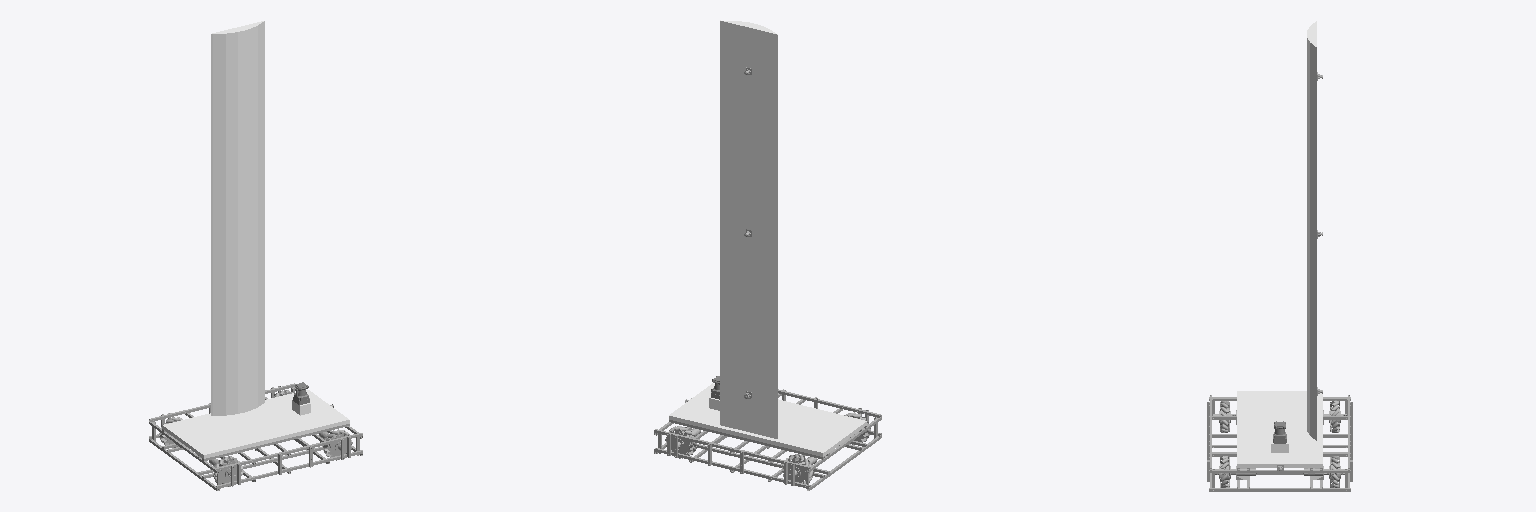
URDF robot description (orbotox):
<?xml version="1.0" encoding="utf-8"?>


<robot name="orbotox">


  <!--gazebo>
  <plugin name="skid_steer_drive_controller" filename="libgazebo_ros_skid_steer_drive.so">
    <updateRate>100.0</updateRate>
    <robotNamespace>/orbotox</robotNamespace>
    <leftFrontJoint>wheel2_joint</leftFrontJoint>
    <rightFrontJoint>wheel1_joint</rightFrontJoint>
    <leftRearJoint>wheel3_joint</leftRearJoint>
    <rightRearJoint>wheel4_joint</rightRearJoint>
    <wheelSeparation>0.65</wheelSeparation>
    <wheelDiameter>0.127</wheelDiameter>
    <robotBaseFrame>base_link</robotBaseFrame>
    <torque>20</torque>
    <topicName>cmd_vel</topicName>
    <broadcastTF>true</broadcastTF>
  </plugin>
  </gazebo-->


  <gazebo>
    <plugin name="object_controller" filename="libgazebo_ros_planar_move.so">
      <commandTopic>cmd_vel</commandTopic>
      <odometryTopic>odom</odometryTopic>
      <odometryFrame>odom</odometryFrame>
      <odometryRate>20.0</odometryRate>
      <robotBaseFrame>base_link</robotBaseFrame>
    </plugin>
  </gazebo>

  <link name="base_link">
    <inertial>
      <origin xyz="-0.063937 -0.10833 0.033362" rpy="0 0 0" />
      <mass value="0.0010628" />
      <inertia ixx="2.0186E-08" ixy="2.4126E-25" ixz="-1.13E-24" iyy="2.0186E-08" iyz="-5.7694E-25" izz="1.6792E-08" />
    </inertial>
    <visual>
      <origin xyz="0 0 0" rpy="0 0 0" />
      <geometry>
        <mesh filename="package://orbotox/meshes/base_link.STL" />
      </geometry>
      <material name="">
        <color rgba="0.75294 0.75294 0.75294 1" />
      </material>
    </visual>
    <collision>
      <origin xyz="0 0 0" rpy="0 0 0" />
      <geometry>
        <mesh filename="package://orbotox/meshes/base_link.STL" />
      </geometry>
    </collision>
  </link>


  <link name="body_link">
    <inertial>
      <origin xyz="-0.059075 -0.10835 0.096944" rpy="0 0 0" />
      <mass value="3" />
      <inertia ixx="0.021775" ixy="1.5385E-08" ixz="1.7745E-18" iyy="0.043574" iyz="1.8448E-18" izz="0.064943" />
    </inertial>
    <visual>
      <origin xyz="0 0 0" rpy="0 0 0" />
      <geometry>
        <mesh filename="package://orbotox/meshes/body_link.STL" />
      </geometry>
      <material name="">
        <color rgba="0.75294 0.75294 0.75294 1" />
      </material>
    </visual>
    <collision>
      <origin xyz="0 0 0" rpy="0 0 0" />
      <geometry>
        <mesh filename="package://orbotox/meshes/body_link.STL" />
      </geometry>
    </collision>
  </link>


  <joint name="base_body_joint" type="fixed">
    <origin xyz="0 0 0" rpy="0 0 0" />
    <parent link="base_link" />
    <child link="body_link" />
    <axis xyz="0 0 0" />
  </joint>


   <gazebo reference="body_link">
        <kp>1000.0</kp>
        <kd>1000.0</kd>
        <mu1>10.0</mu1>
        <mu2>10.0</mu2>
        <material>Gazebo/Grey</material>
    </gazebo>


  <link name="wheel1_link">
    <inertial>
      <origin xyz="-2.0561E-08 -0.052961 -1.1562E-07" rpy="0 0 0" />
      <mass value="0.1" />
      <inertia ixx="0.00030067" ixy="2.0195E-07" ixz="-3.9763E-08" iyy="0.00049283" iyz="-3.5914E-08" izz="0.00030045" />
    </inertial>
    <visual>
      <origin xyz="0 0 0" rpy="0 0 0" />
      <geometry>
        <mesh filename="package://orbotox/meshes/wheel1_link.STL" />
      </geometry>
      <material name="">
        <color rgba="0.75294 0.75294 0.75294 1" />
      </material>
    </visual>
    <collision>
      <origin xyz="0 0 0" rpy="0 0 0" />
      <geometry>
        <mesh filename="package://orbotox/meshes/wheel1_link.STL" />
      </geometry>
    </collision>
  </link>


  <joint name="wheel1_joint" type="continuous">
    <origin xyz="0.23716 -0.31048 0.090058" rpy="0 0 0" />
    <parent link="body_link" />
    <child link="wheel1_link" />
    <axis xyz="0 1 0" />
  </joint>


   <gazebo reference="wheel1_link">
        <kp>1000000.0</kp>
        <kd>0.1</kd>
        <mu1>0</mu1>
        <mu2>0</mu2>
        <material>Gazebo/Black</material>
    </gazebo>


  <link name="wheel2_link">
    <inertial>
      <origin xyz="1.4883E-08 0.05296 -7.9687E-08" rpy="0 0 0" />
      <mass value="0.1" />
      <inertia ixx="0.00030068" ixy="2.0511E-07" ixz="2.4557E-09" iyy="0.00049284" iyz="2.1839E-09" izz="0.00030045" />
    </inertial>
    <visual>
      <origin xyz="0 0 0" rpy="0 0 0" />
      <geometry>
        <mesh filename="package://orbotox/meshes/wheel2_link.STL" />
      </geometry>
      <material name="">
        <color rgba="0.75294 0.75294 0.75294 1" />
      </material>
    </visual>
    <collision>
      <origin xyz="0 0 0" rpy="0 0 0" />
      <geometry>
        <mesh filename="package://orbotox/meshes/wheel2_link.STL" />
      </geometry>
    </collision>
  </link>


  <joint name="wheel2_joint" type="continuous">
    <origin xyz="0.237163125315538 0.0938144280797989 0.0900582443330503" rpy="0 0 0" />
    <parent link="body_link" />
    <child link="wheel2_link" />
    <axis xyz="0 1 0" />
  </joint>


   <gazebo reference="wheel2_link">
        <kp>1000000.0</kp>
        <kd>0.1</kd>
        <mu1>0</mu1>
        <mu2>0</mu2>
        <material>Gazebo/Black</material>
    </gazebo>


  <link name="wheel3_link">
    <inertial>
      <origin xyz="1.2499E-09 0.05296 -1.1743E-07" rpy="0 0 0" />
      <mass value="0.1" />
      <inertia ixx="0.00030068" ixy="2.0511E-07" ixz="2.4557E-09" iyy="0.00049283" iyz="2.1839E-09" izz="0.00030044" />
    </inertial>
    <visual>
      <origin xyz="0 0 0" rpy="0 0 0" />
      <geometry>
        <mesh filename="package://orbotox/meshes/wheel3_link.STL" />
      </geometry>
      <material name="">
        <color rgba="0.75294 0.75294 0.75294 1" />
      </material>
    </visual>
    <collision>
      <origin xyz="0 0 0" rpy="0 0 0" />
      <geometry>
        <mesh filename="package://orbotox/meshes/wheel3_link.STL" />
      </geometry>
    </collision>
  </link>


  <joint name="wheel3_joint" type="continuous">
    <origin xyz="-0.36504 0.093814 0.090058" rpy="0 0 0" />
    <parent link="body_link" />
    <child link="wheel3_link" />
    <axis xyz="0 1 0" />
  </joint>


   <gazebo reference="wheel3_link">
        <kp>1000000.0</kp>
        <kd>0.1</kd>
        <mu1>0</mu1>
        <mu2>0</mu2>
        <material>Gazebo/Black</material>
    </gazebo>


  <link name="wheel4_link">
    <inertial>
      <origin xyz="1.4883E-08 -0.05296 -7.9687E-08"  rpy="0 0 0" />
      <mass value="0.1" />
      <inertia ixx="0.00030068" ixy="2.0511E-07" ixz="2.4557E-09" iyy="0.00049284" iyz="2.1839E-09" izz="0.00030045" />
    </inertial>
    <visual>
      <origin xyz="0 0 0" rpy="0 0 0" />
      <geometry>
        <mesh filename="package://orbotox/meshes/wheel4_link.STL" />
      </geometry>
      <material name="">
        <color rgba="0.75294 0.75294 0.75294 1" />
      </material>
    </visual>
    <collision>
      <origin xyz="0 0 0" rpy="0 0 0" />
      <geometry>
        <mesh filename="package://orbotox/meshes/wheel4_link.STL" />
      </geometry>
    </collision>
  </link>


   <gazebo reference="wheel4_link">
        <kp>1000000.0</kp>
        <kd>0.1</kd>
        <mu1>0</mu1>
        <mu2>0</mu2>
        <material>Gazebo/Black</material>
    </gazebo>


  <joint name="wheel4_joint" type="continuous">
    <origin xyz="-0.365036874684441 -0.310481197853668 0.0900582443330505" rpy="0 0 0" />
    <parent link="body_link" />
    <child link="wheel4_link" />
    <axis xyz="0 1 0" />
  </joint>


  <link name="head_link">
    <inertial>
      <origin xyz="-0.39771 -0.082234 0.77185" rpy="0 0 0" />
      <mass value="0.3" />
      <inertia ixx="11.871" ixy="0.0069336" ixz="0.044139" iyy="12.114" iyz="-0.75114" izz="0.63733" />
    </inertial>
    <visual>
      <origin xyz="0 0 0" rpy="0 0 0" />
      <geometry>
        <mesh filename="package://orbotox/meshes/head_link.STL" />
      </geometry>
      <material name="">
        <color rgba="1 1 1 1" />
      </material>
    </visual>
    <collision>
      <origin xyz="0 0 0" rpy="0 0 0" />
      <geometry>
        <mesh filename="package://orbotox/meshes/head_link.STL" />
      </geometry>
    </collision>
  </link>


   <gazebo reference="head_link">
        <kp>1000.0</kp>
        <kd>1000.0</kd>
        <mu1>10.0</mu1>
        <mu2>10.0</mu2>
        <material>Gazebo/White</material>
    </gazebo>


  <joint name="head_joint" type="fixed">
    <origin xyz="0.336063125315549 0.0880166151130642 0.15547824433304" rpy="0 0 0" />
    <parent link="body_link" />
    <child link="head_link" />
    <axis xyz="0 0 0" />
  </joint>


  <link name="laser_link">
    <inertial>
      <origin xyz="-0.02422 1.2374E-09 -0.0023614" rpy="0 0 0" />
      <mass value="0.05" />
      <inertia ixx="0.0002032" ixy="2.7173E-12" ixz="1.1399E-06" iyy="0.00020486" iyz="-4.6627E-12" izz="0.00010862" />
    </inertial>
    <visual>
      <origin xyz="0 0 0" rpy="0 0 0" />
      <geometry>
        <mesh filename="package://orbotox/meshes/laser_link.STL" />
      </geometry>
      <material name="">
        <color rgba="0.6 0.6 0.6 1" />
      </material>
    </visual>
    <collision>
      <origin xyz="0 0 0" rpy="0 0 0" />
      <geometry>
        <mesh filename="package://orbotox/meshes/laser_link.STL" />
      </geometry>
    </collision>
  </link>


  <joint name="laser_joint" type="fixed">
    <origin xyz="-0.12608 -0.19635 0.11091" rpy="0 0 0" />
    <parent link="head_link" />
    <child link="laser_link" />
    <axis xyz="0 0 0" />
  </joint>


   <gazebo reference="laser_link">
        <kp>1000.0</kp>
        <kd>1000.0</kd>
        <mu1>10.0</mu1>
        <mu2>10.0</mu2>
        <material>Gazebo/Red</material>
    </gazebo>


  <gazebo reference="laser_link">
    <sensor type="ray" name="head_hokuyo_sensor">
      <pose>0 0 0 0 0 0</pose>
      <visualize>false</visualize>
      <update_rate>100</update_rate>
      <ray>
        <scan>
          <horizontal>
            <samples>720</samples>
            <resolution>1</resolution>
            <min_angle>-1.570796</min_angle>
            <max_angle>1.570796</max_angle>
          </horizontal>
        </scan>
        <range>
          <min>0.10</min>
          <max>10.0</max>
          <resolution>0.01</resolution>
        </range>
        <noise>
          <type>gaussian</type>
          <mean>0.0</mean>
          <stddev>0.01</stddev>
        </noise>
      </ray>
      <plugin name="gazebo_ros_head_hokuyo_controller" filename="libgazebo_ros_laser.so">
        <topicName>/orbotox/laser/scan</topicName>
        <frameName>laser_link</frameName>
      </plugin>
    </sensor>
  </gazebo>


  <link name="camera1_link">
    <inertial>
      <origin xyz="-0.018064 8.6736E-19 -0.00049043" rpy="0 0 0" />
      <mass value="0.0079229" />
      <inertia ixx="5.7155E-07" ixy="1.1945E-23" ixz="1.3992E-23" iyy="3.8155E-07" iyz="3.1308E-23" izz="4.1821E-07" />
    </inertial>
    <visual>
      <origin xyz="0 0 0" rpy="0 0 0" />
      <geometry>
        <mesh filename="package://orbotox/meshes/camera1_link.STL" />
      </geometry>
      <material name="">
        <color rgba="0.75294 0.75294 0.75294 1" />
      </material>
    </visual>
    <collision>
      <origin xyz="0 0 0" rpy="0 0 0" />
      <geometry>
        <mesh filename="package://orbotox/meshes/camera1_link.STL" />
      </geometry>
    </collision>
  </link>


  <joint name="camera1_joint" type="fixed">
    <origin xyz="-0.4 0.00315 0.20395" rpy="0 0 1.5708" />
    <parent link="head_link" />
    <child link="camera1_link" />
    <axis xyz="0 0 0" />
  </joint>


   <gazebo reference="camera1_link">
        <kp>1000.0</kp>
        <kd>1000.0</kd>
        <mu1>10.0</mu1>
        <mu2>10.0</mu2>
        <material>Gazebo/Green</material>
    </gazebo>


  <gazebo reference="camera1_link">
      <sensor type="camera" name="camera1">
        <update_rate>30.0</update_rate>
        <camera name="head">
  	  <horizontal_fov>1.3962634</horizontal_fov>
          <image>
            <format>R8G8B8</format>
            <width>1020</width>
            <height>1020</height>
          </image>
          <clip>
            <near>0.01</near>
            <far>100</far>
          </clip>
        </camera>

        <plugin name="camera_camera_controller" filename="libgazebo_ros_camera.so">
          <alwaysOn>true</alwaysOn>
          <updateRate>0.0</updateRate>
          <cameraName>orbotox/camera1</cameraName>
          <imageTopicName>image_raw</imageTopicName>
          <cameraInfoTopicName>camera_info</cameraInfoTopicName>
          <frameName>camera_link</frameName>
          <hackBaseline>0.07</hackBaseline>
          <distortionK1>0.0</distortionK1>
          <distortionK2>0.0</distortionK2>
          <distortionK3>0.0</distortionK3>
          <distortionT1>0.0</distortionT1>
          <distortionT2>0.0</distortionT2>
        </plugin>
      </sensor>
    </gazebo>


  <link name="camera2_link">
    <inertial>
      <origin xyz="-0.018064 -2.6021E-18 -0.00049043" rpy="0 0 0" />
      <mass value="0.0079229" />
      <inertia ixx="5.7155E-07" ixy="4.4286E-24" ixz="7.2822E-22" iyy="3.8155E-07" iyz="3.0372E-23" izz="4.1821E-07" />
    </inertial>
    <visual>
      <origin xyz="0 0 0" rpy="0 0 0" />
      <geometry>
        <mesh filename="package://orbotox/meshes/camera2_link.STL" />
      </geometry>
      <material name="">
        <color rgba="0.75294 0.75294 0.75294 1" />
      </material>
    </visual>
    <collision>
      <origin xyz="0 0 0" rpy="0 0 0" />
      <geometry>
        <mesh filename="package://orbotox/meshes/camera2_link.STL" />
      </geometry>
    </collision>
  </link>


  <joint name="camera2_joint" type="fixed">
    <origin xyz="-0.4 0.00315 1.004" rpy="0 0 1.5708" />
    <parent link="head_link" />
    <child link="camera2_link" />
    <axis xyz="0 0 0" />
  </joint>


   <gazebo reference="camera2_link">
        <kp>1000.0</kp>
        <kd>1000.0</kd>
        <mu1>10.0</mu1>
        <mu2>10.0</mu2>
        <material>Gazebo/Green</material>
    </gazebo>


  <gazebo reference="camera2_link">
      <sensor type="camera" name="camera2">
        <update_rate>30.0</update_rate>
        <camera name="head">
  	  <horizontal_fov>1.3962634</horizontal_fov>
          <image>
            <format>R8G8B8</format>
            <width>1020</width>
            <height>1020</height>
          </image>
          <clip>
            <near>0.01</near>
            <far>100</far>
          </clip>
        </camera>

        <plugin name="camera_camera_controller" filename="libgazebo_ros_camera.so">
          <alwaysOn>true</alwaysOn>
          <updateRate>0.0</updateRate>
          <cameraName>orbotox/camera2</cameraName>
          <imageTopicName>image_raw</imageTopicName>
          <cameraInfoTopicName>camera_info</cameraInfoTopicName>
          <frameName>camera_link</frameName>
          <hackBaseline>0.07</hackBaseline>
          <distortionK1>0.0</distortionK1>
          <distortionK2>0.0</distortionK2>
          <distortionK3>0.0</distortionK3>
          <distortionT1>0.0</distortionT1>
          <distortionT2>0.0</distortionT2>
        </plugin>
      </sensor>
    </gazebo>


  <link name="camera3_link">
    <inertial>
      <origin xyz="-0.018064 -8.6736E-19 -0.00049043" rpy="0 0 0" />
      <mass value="0.0079229" />
      <inertia ixx="5.7155E-07" ixy="5.2411E-24" ixz="7.3495E-22" iyy="3.8155E-07" iyz="3.7511E-23" izz="4.1821E-07" />
    </inertial>
    <visual>
      <origin xyz="0 0 0" rpy="0 0 0" />
      <geometry>
        <mesh filename="package://orbotox/meshes/camera3_link.STL" />
      </geometry>
      <material name="">
        <color rgba="0.75294 0.75294 0.75294 1" />
      </material>
    </visual>
    <collision>
      <origin xyz="0 0 0" rpy="0 0 0" />
      <geometry>
        <mesh filename="package://orbotox/meshes/camera3_link.STL" />
      </geometry>
    </collision>
  </link>


  <joint name="camera3_joint" type="fixed">
    <origin xyz="-0.4 0.00315 1.804" rpy="0 0 1.5708" />
    <parent link="head_link" />
    <child link="camera3_link" />
    <axis xyz="0 0 0" />
  </joint>


   <gazebo reference="camera3_link">
        <kp>1000.0</kp>
        <kd>1000.0</kd>
        <mu1>10.0</mu1>
        <mu2>10.0</mu2>
        <material>Gazebo/Green</material>
    </gazebo>


  <gazebo reference="camera3_link">
      <sensor type="camera" name="camera3">
        <update_rate>30.0</update_rate>
        <camera name="head">
  	  <horizontal_fov>1.3962634</horizontal_fov>
          <image>
            <format>R8G8B8</format>
            <width>1020</width>
            <height>1020</height>
          </image>
          <clip>
            <near>0.01</near>
            <far>100</far>
          </clip>
        </camera>

        <plugin name="camera_camera_controller" filename="libgazebo_ros_camera.so">
          <alwaysOn>true</alwaysOn>
          <updateRate>0.0</updateRate>
          <cameraName>orbotox/camera3</cameraName>
          <imageTopicName>image_raw</imageTopicName>
          <cameraInfoTopicName>camera_info</cameraInfoTopicName>
          <frameName>camera_link</frameName>
          <hackBaseline>0.07</hackBaseline>
          <distortionK1>0.0</distortionK1>
          <distortionK2>0.0</distortionK2>
          <distortionK3>0.0</distortionK3>
          <distortionT1>0.0</distortionT1>
          <distortionT2>0.0</distortionT2>
        </plugin>
      </sensor>
    </gazebo>


  <link name="camera4_link">
    <inertial>
      <origin xyz="-0.1982 -0.41009 -1.8005" rpy="0 0 0" />
      <mass value="0.0079229" />
      <inertia ixx="3.8155E-07" ixy="-1.0955E-23" ixz="-1.7968E-23" iyy="5.7155E-07" iyz="1.0562E-23" izz="4.1821E-07" />
    </inertial>
    <visual>
      <origin xyz="0 0 0" rpy="0 0 0" />
      <geometry>
        <mesh filename="package://orbotox/meshes/camera4_link.STL" />
      </geometry>
      <material name="">
        <color rgba="0.75294 0.75294 0.75294 1" />
      </material>
    </visual>
    <collision>
      <origin xyz="0 0 0" rpy="0 0 0" />
      <geometry>
        <mesh filename="package://orbotox/meshes/camera4_link.STL" />
      </geometry>
    </collision>
  </link>


  <joint name="camera4_joint" type="fixed">
    <origin xyz="-0.4 0.00315 1.804" rpy="0 0 1.5708" />
    <parent link="head_link" />
    <child link="camera4_link" />
    <axis xyz="0 0 0" />
  </joint>


   <gazebo reference="camera4_link">
        <kp>1000.0</kp>
        <kd>1000.0</kd>
        <mu1>10.0</mu1>
        <mu2>10.0</mu2>
        <material>Gazebo/Green</material>
    </gazebo>


</robot>

--- Render facts (derived) ---
Views: 3 orthographic renders of the robot side by side, from view 1: azimuth 30°, elevation 25°; view 2: azimuth 150°, elevation 25°; view 3: azimuth 270°, elevation 25°.
Model orbotox with 12 links and 11 joints (4 continuous, 7 fixed), rooted at base_link, posed every joint at zero.
Visible links, largest first — view 1: head_link, body_link; view 2: head_link, body_link; view 3: head_link, body_link.
Boxes of the visible links, box(x1,y1,x2,y2) form: head_link: box(162, 21, 349, 458); body_link: box(149, 383, 362, 490); head_link: box(669, 20, 866, 456); body_link: box(654, 389, 881, 490); head_link: box(1237, 21, 1322, 467); body_link: box(1207, 395, 1352, 491).
Size in the robot's own frame: 0.8282 by 0.6748 by 2.16 metres.
Meshes: 12 distinct files referenced, 12 mesh visuals loaded (12 binary STL).
